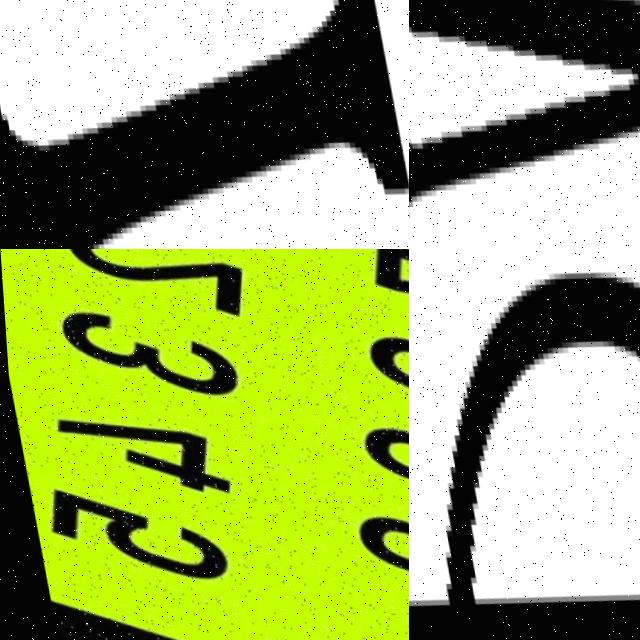0: (313, 458, 409, 640)
2: (30, 249, 276, 348)
3: (18, 260, 262, 435)
4: (3, 352, 257, 529)
5: (19, 450, 242, 617)
7: (319, 249, 409, 361)
8: (319, 277, 409, 454)
9: (316, 371, 409, 546)
A: (409, 249, 640, 640)
R: (0, 0, 409, 249)
W: (409, 0, 640, 249)
